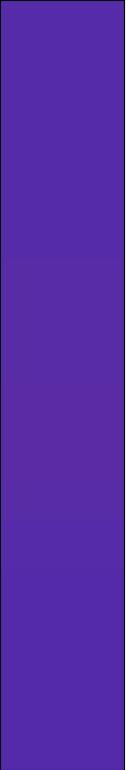safe: (14, 11, 118, 766)
